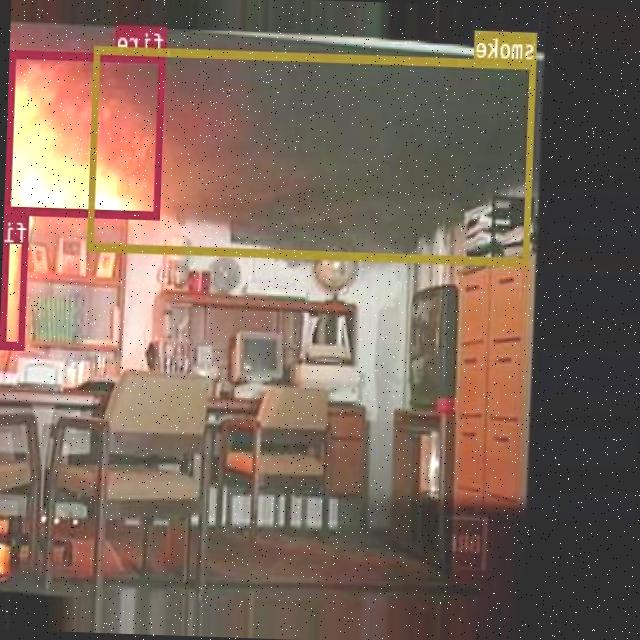fire: (6, 48, 167, 216), (1, 214, 30, 348)
smoke: (89, 45, 537, 264)
